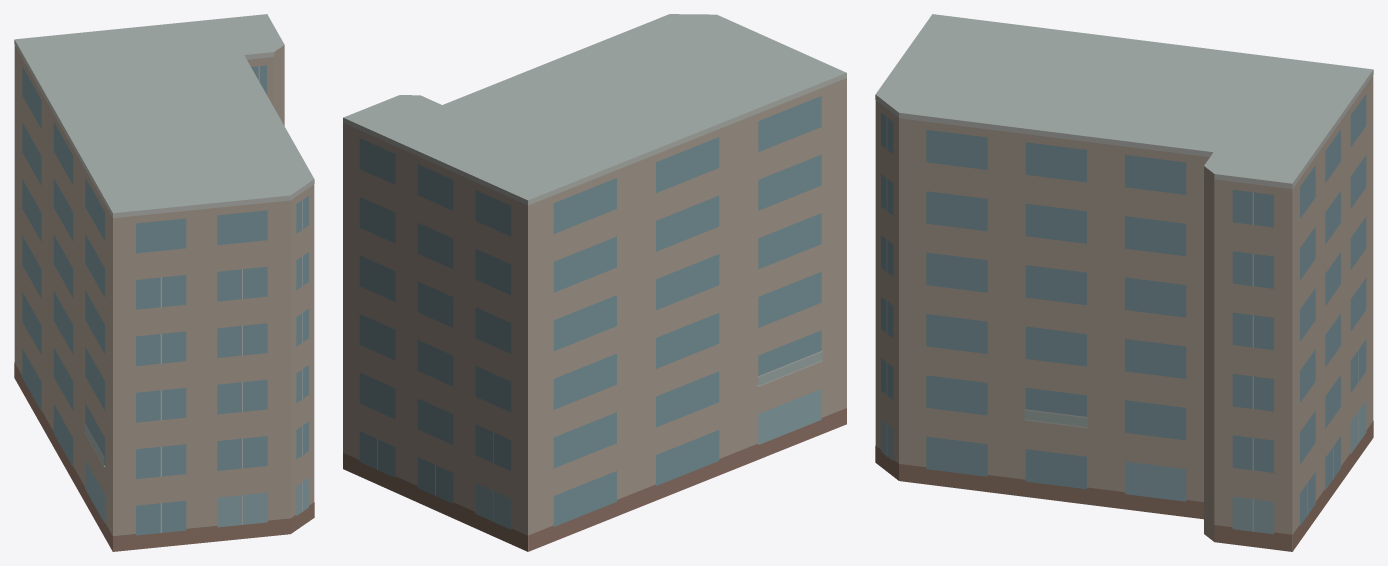
File: survey-upis-32873645.glb
3 views of the same model, side by side, from view 1: azimuth 30°, elevation 25°; view 2: azimuth 150°, elevation 25°; view 3: azimuth 270°, elevation 25° (orthographic). The views are drawn at different scales.
Visible parts, largest first — view 1: survey-upis-32873645.tmp; view 2: survey-upis-32873645.tmp; view 3: survey-upis-32873645.tmp.
Part boxes in pixels (x1,y1,x2,y2): survey-upis-32873645.tmp: (14,14,314,551); survey-upis-32873645.tmp: (343,14,846,551); survey-upis-32873645.tmp: (875,14,1373,551).
Bounding box in the file's own units: 16.42 × 16.6 × 20.36.
